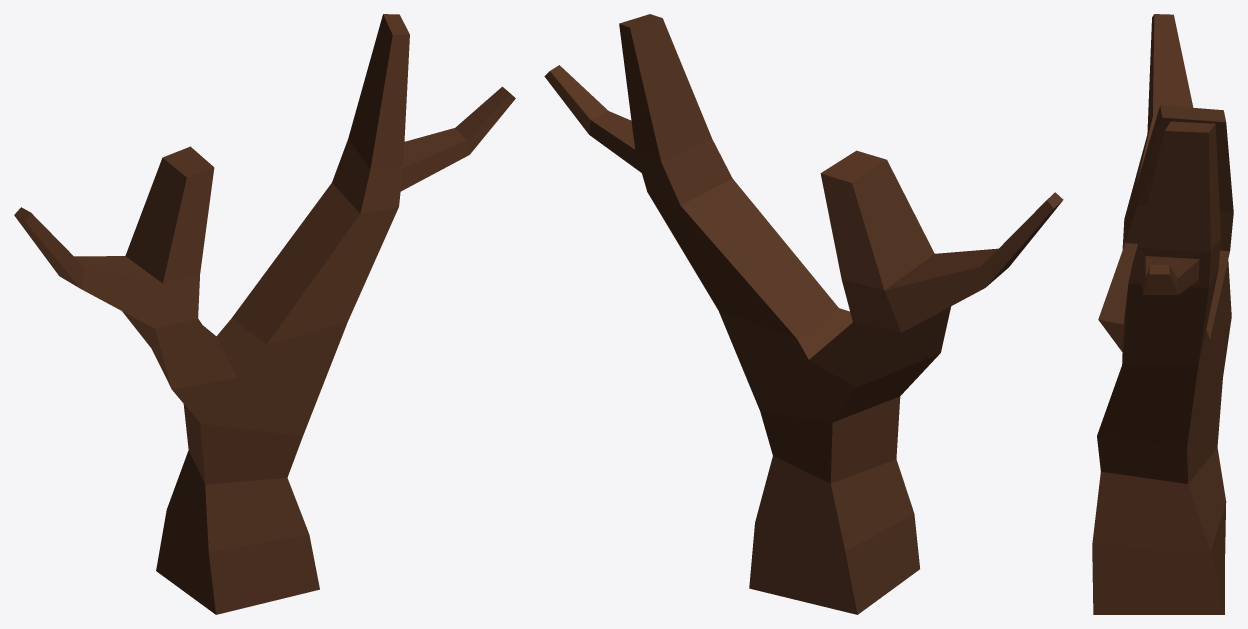
The model's file is DeadOak_01.fbx.
3 views of the same model, side by side, from view 1: azimuth 30°, elevation 25°; view 2: azimuth 150°, elevation 25°; view 3: azimuth 270°, elevation 25° (orthographic). The views are drawn at different scales.
Parts seen in each view (by area): view 1: DeadOak1; view 2: DeadOak1; view 3: DeadOak1.
Part boxes in pixels (x1=…): DeadOak1: x1=14, y1=14, x2=515, y2=614; DeadOak1: x1=544, y1=14, x2=1063, y2=614; DeadOak1: x1=1092, y1=14, x2=1233, y2=614.
Bounding box in the file's own units: 631 × 622 × 144.
